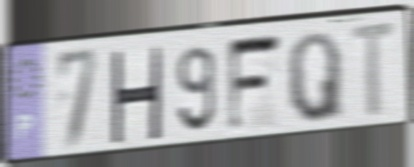7: (54, 45, 98, 158)
9: (175, 44, 217, 135)
F: (226, 30, 285, 138)
H: (108, 46, 164, 144)
Q: (285, 29, 346, 126)
T: (348, 19, 402, 124)
